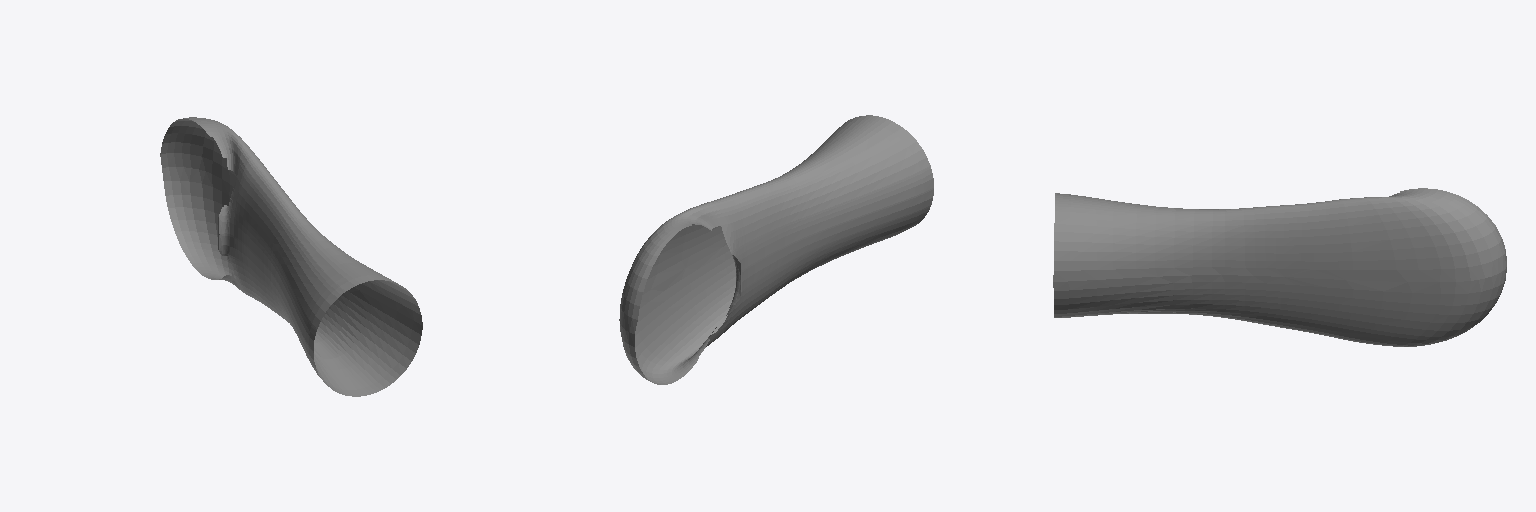
File: hand.obj
The picture shows the model from 3 angles: view 1: azimuth 30°, elevation 25°; view 2: azimuth 150°, elevation 25°; view 3: azimuth 270°, elevation 25°; orthographic projection.
Visible parts, largest first — view 1: NONE; view 2: NONE; view 3: NONE.
Part boxes in pixels (x1,y1,x2,y2): NONE: (160, 117, 422, 396); NONE: (619, 115, 933, 384); NONE: (1053, 188, 1506, 346).
Size of the model in its own units: 2.46 by 3.25 by 8.93.